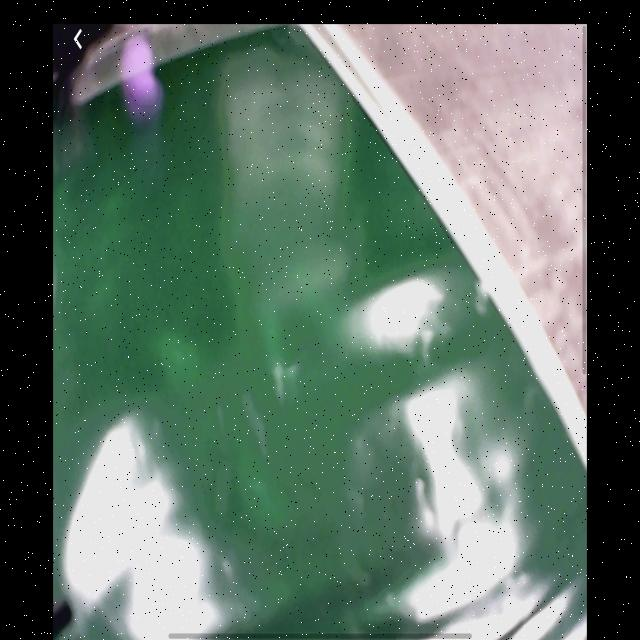ball: (119, 33, 164, 122)
